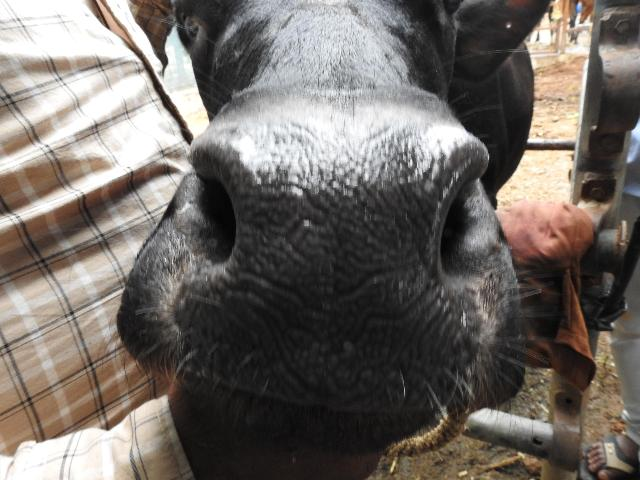Muzzle: (236, 138, 424, 402)
